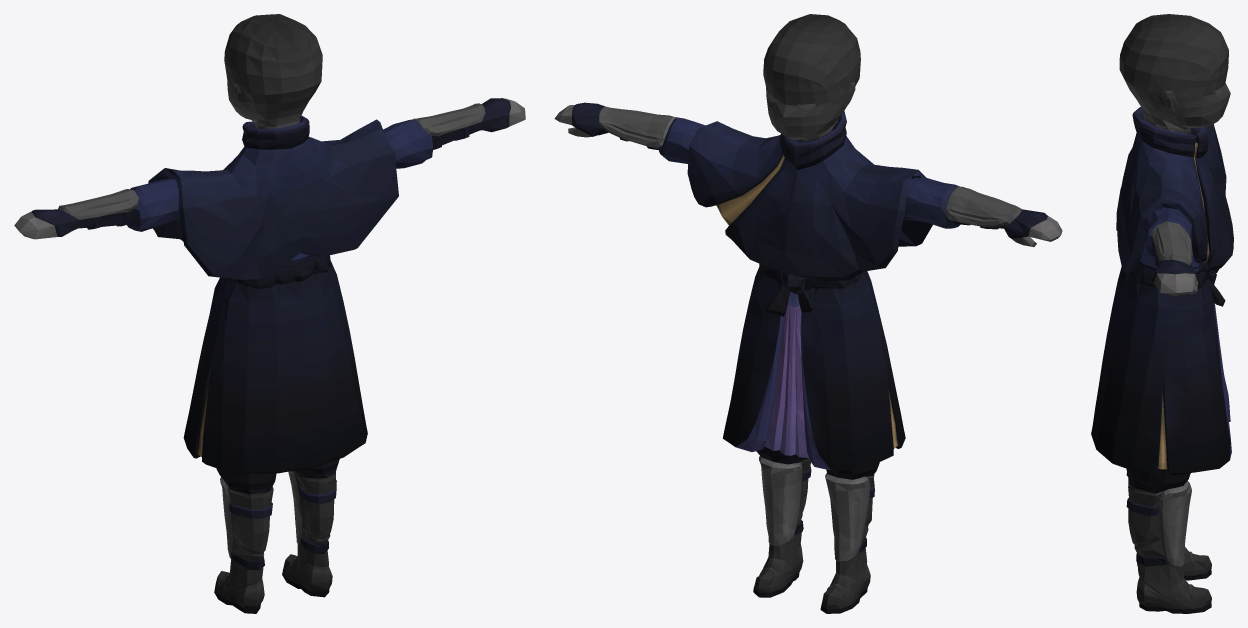
File: CharSkyKid_Body_AP29Layered.glb
The picture shows the model from 3 angles, left to right: view 1: azimuth 30°, elevation 25°; view 2: azimuth 150°, elevation 25°; view 3: azimuth 270°, elevation 25°; orthographic projection.
Visible parts, largest first — view 1: CharSkyKid_Body_AP29Layered; view 2: CharSkyKid_Body_AP29Layered; view 3: CharSkyKid_Body_AP29Layered.
Boxes of the visible parts, x1,y1,x2,y2 form: CharSkyKid_Body_AP29Layered: [14, 14, 525, 613]; CharSkyKid_Body_AP29Layered: [554, 14, 1062, 613]; CharSkyKid_Body_AP29Layered: [1091, 14, 1233, 613].
Bounding box in the file's own units: 13.83 × 15 × 3.39.
Materials: 1 (1 with a texture image).
